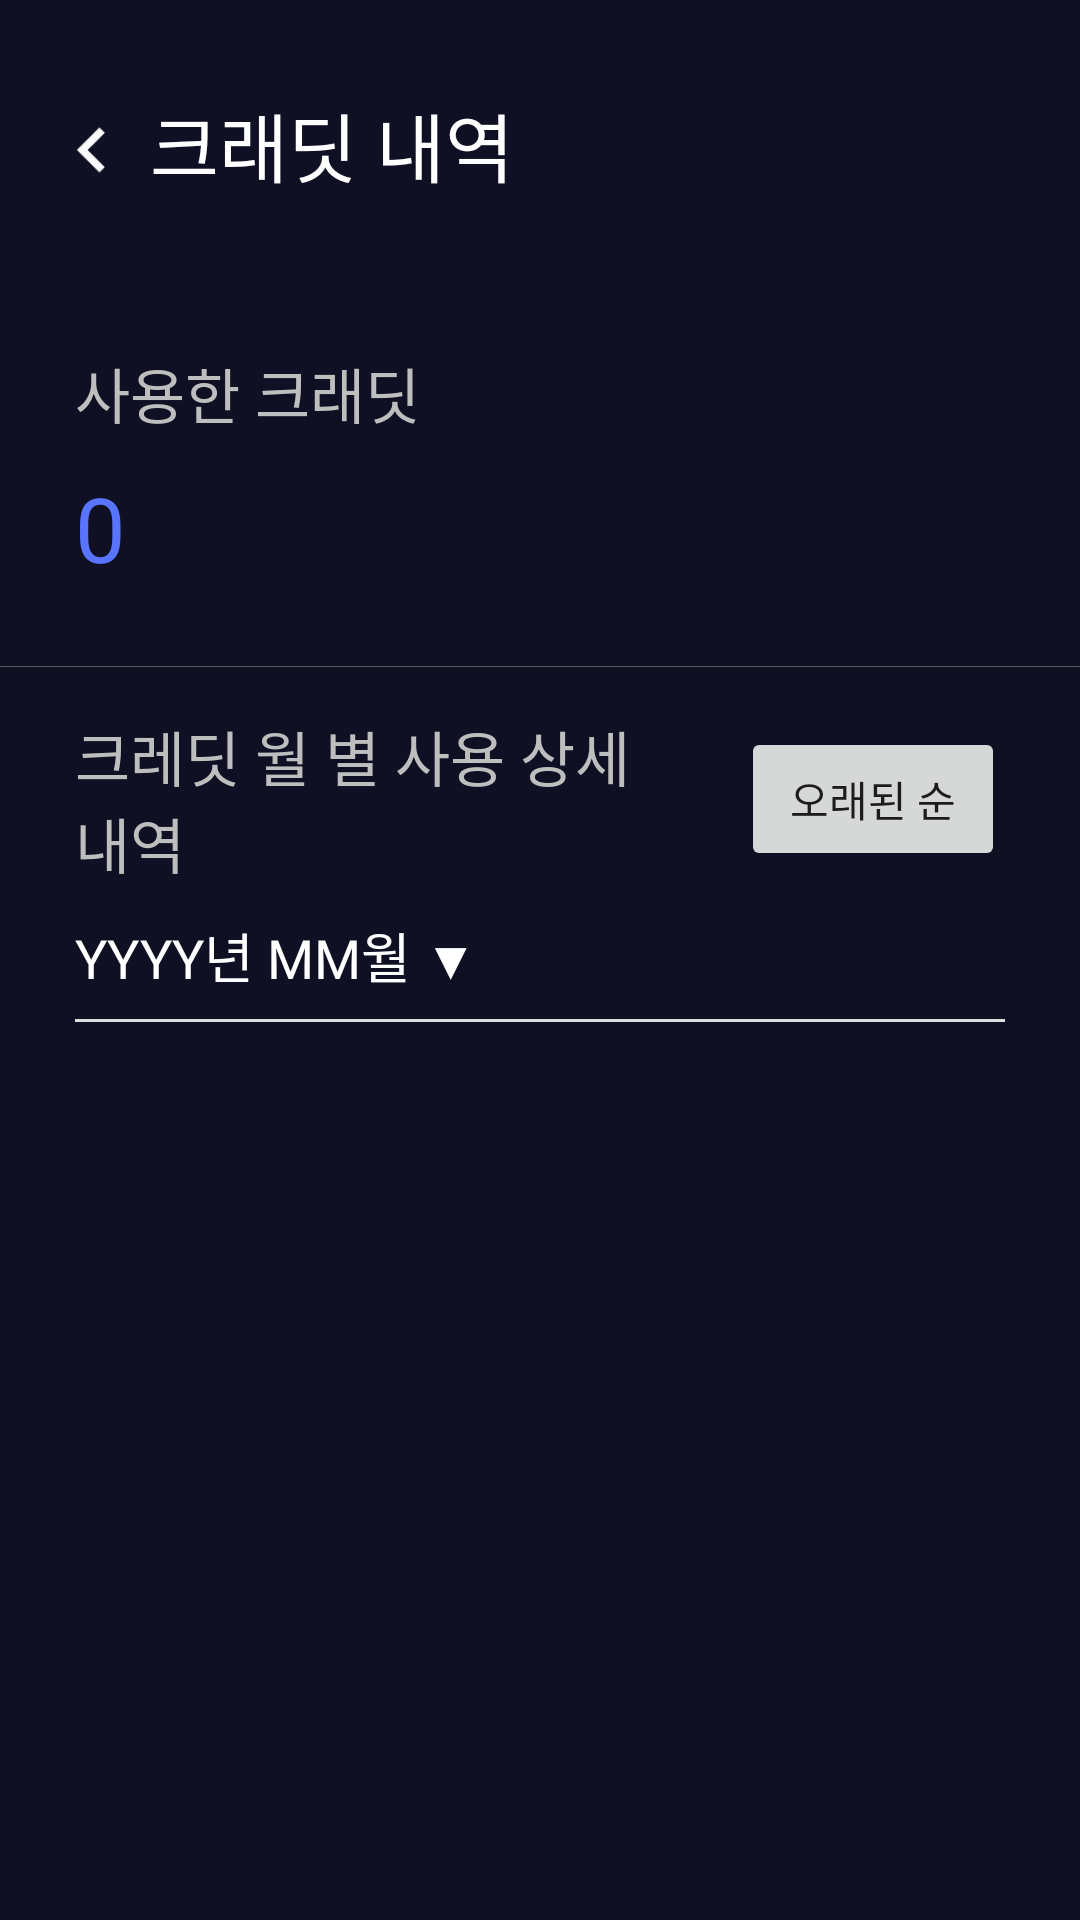

Screen size 1080*1920. Icon name, then its box in pixels as box(x1, y1, x2, y2):
navigate before: box(77, 127, 105, 173)
